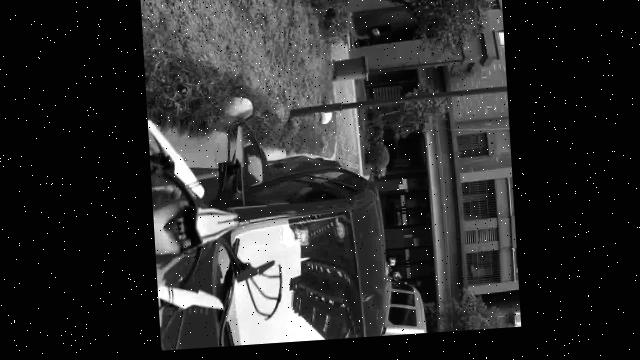drone: (147, 108, 284, 353)
